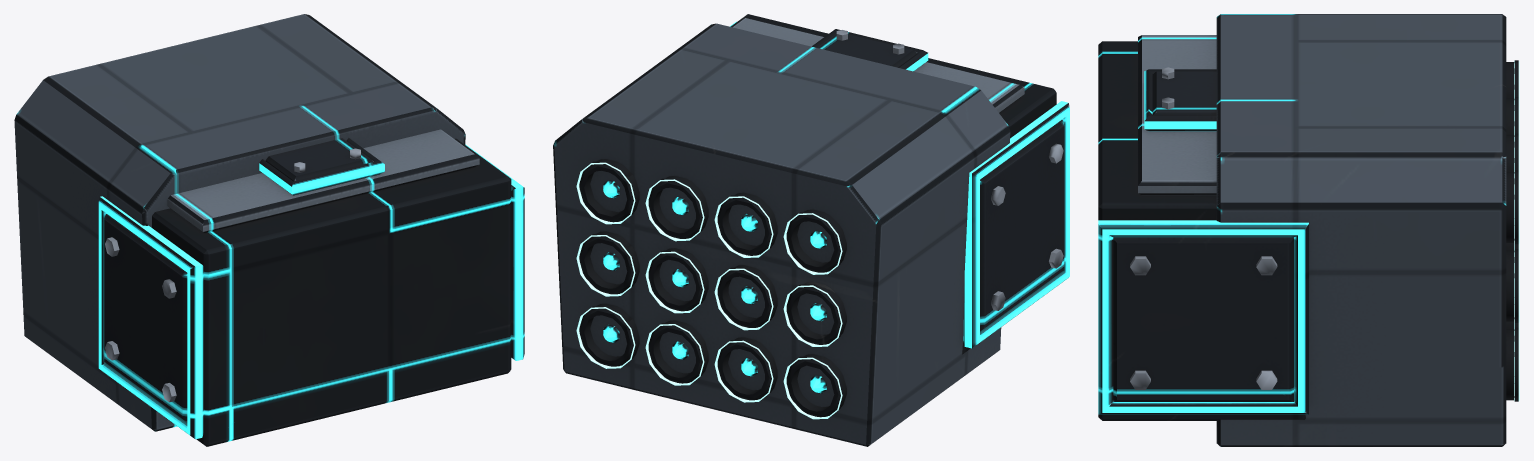
File: misiles_rack_t3.fbx
3 views of the same model, side by side, from view 1: azimuth 30°, elevation 25°; view 2: azimuth 150°, elevation 25°; view 3: azimuth 270°, elevation 25° (orthographic). The views are drawn at different scales.
Visible parts, largest first — view 1: misiles_rack_t3; view 2: misiles_rack_t3, misiles_rack_t3_neon; view 3: misiles_rack_t3, misiles_rack_t3_neon.
Boxes of the visible parts, x1=… form: misiles_rack_t3: x1=14, y1=14, x2=524, y2=446; misiles_rack_t3: x1=553, y1=14, x2=1069, y2=446; misiles_rack_t3_neon: x1=576, y1=162, x2=842, y2=419; misiles_rack_t3: x1=1098, y1=14, x2=1518, y2=446; misiles_rack_t3_neon: x1=1514, y1=61, x2=1519, y2=401.
Size of the model in its own units: 3.36 by 2.38 by 3.2.
